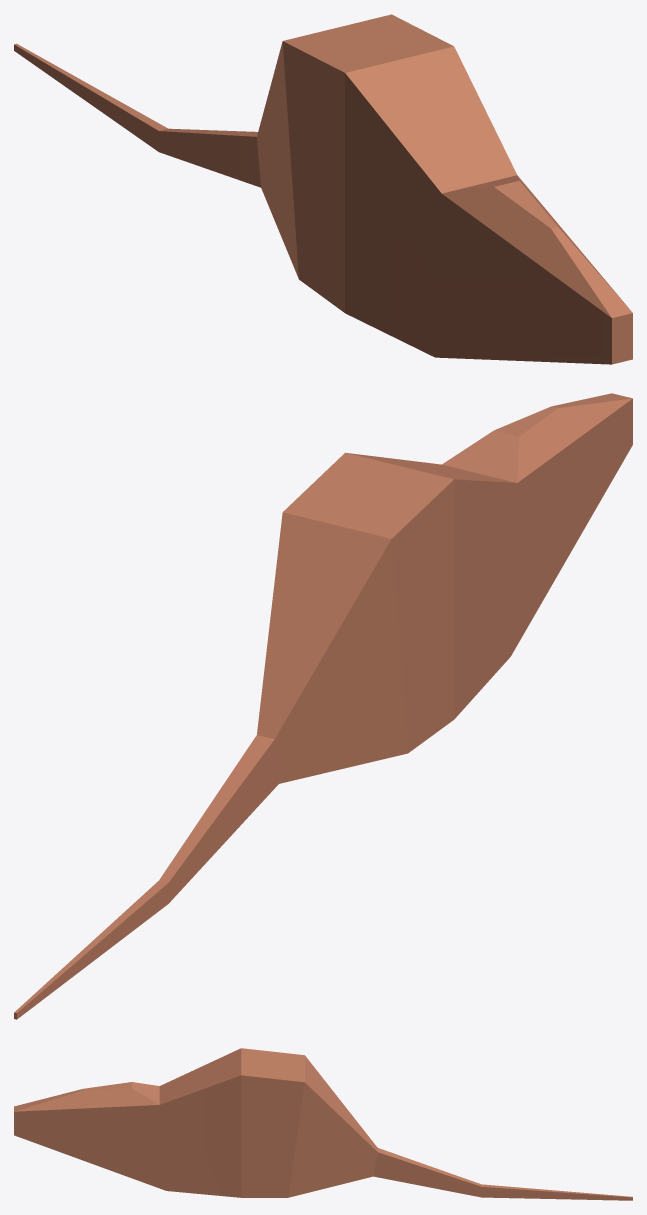
File: Rat.fbx
3 renders of one model, top to bottom at view 1: azimuth 30°, elevation 25°; view 2: azimuth 150°, elevation 25°; view 3: azimuth 270°, elevation 25°, orthographic. The views are drawn at different scales.
Parts seen in each view (by area): view 1: Body; view 2: Body; view 3: Body.
Boxes of the visible parts, left/top/right/bottom form: Body: left=14, top=14, right=632, bottom=364; Body: left=14, top=393, right=632, bottom=1019; Body: left=14, top=1048, right=632, bottom=1200.
Bounding box in the file's own units: 112 × 27.76 × 11.65.
